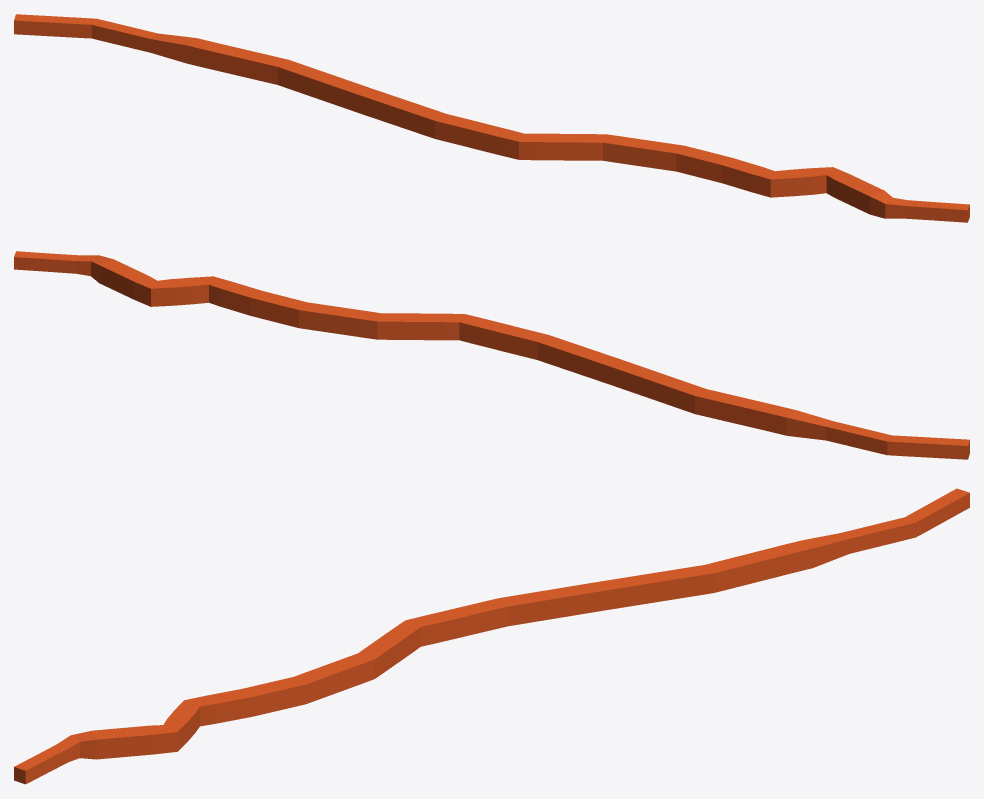
3 views of the same model, one above another, from view 1: azimuth 30°, elevation 25°; view 2: azimuth 210°, elevation 25°; view 3: azimuth 270°, elevation 25° (orthographic). The views are drawn at different scales.
Parts seen in each view (by area): view 1: Cube; view 2: Cube; view 3: Cube.
Part boxes in pixels (bbox=[...]): Cube: bbox=[14, 14, 969, 222]; Cube: bbox=[14, 251, 969, 459]; Cube: bbox=[14, 488, 969, 784].
Size of the model in its own units: 176 by 5.78 by 253.
